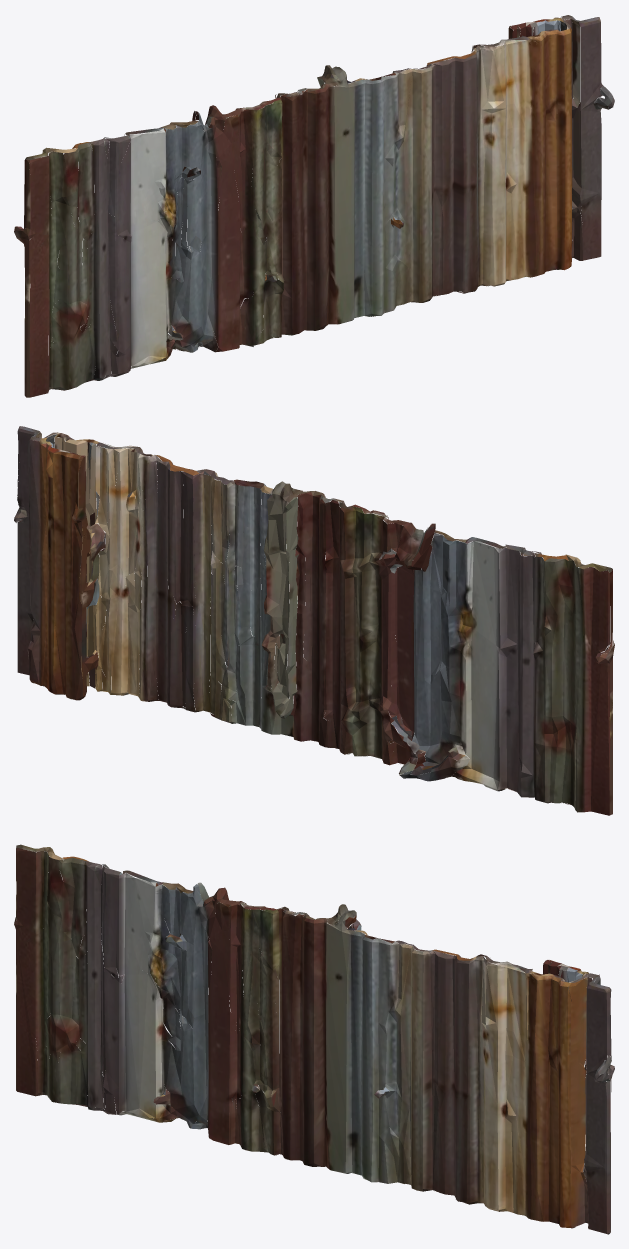
Rendered from scrap-wall-section.glb.
3 views of the same model, one above another, from view 1: azimuth 30°, elevation 25°; view 2: azimuth 150°, elevation 25°; view 3: azimuth 330°, elevation 25° (orthographic). The views are drawn at different scales.
Visible parts, largest first — view 1: tmpyx6g_cx9.ply; view 2: tmpyx6g_cx9.ply; view 3: tmpyx6g_cx9.ply.
Boxes of the visible parts, box(x1,y1,x2,y2) form: tmpyx6g_cx9.ply: box(14, 15, 614, 397); tmpyx6g_cx9.ply: box(14, 426, 614, 815); tmpyx6g_cx9.ply: box(14, 844, 614, 1234).
Bounding box in the file's own units: 6 × 2.5 × 0.6548.
1 material, 1 textured.
